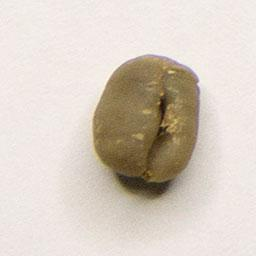peaberry: (90, 50, 204, 189)
